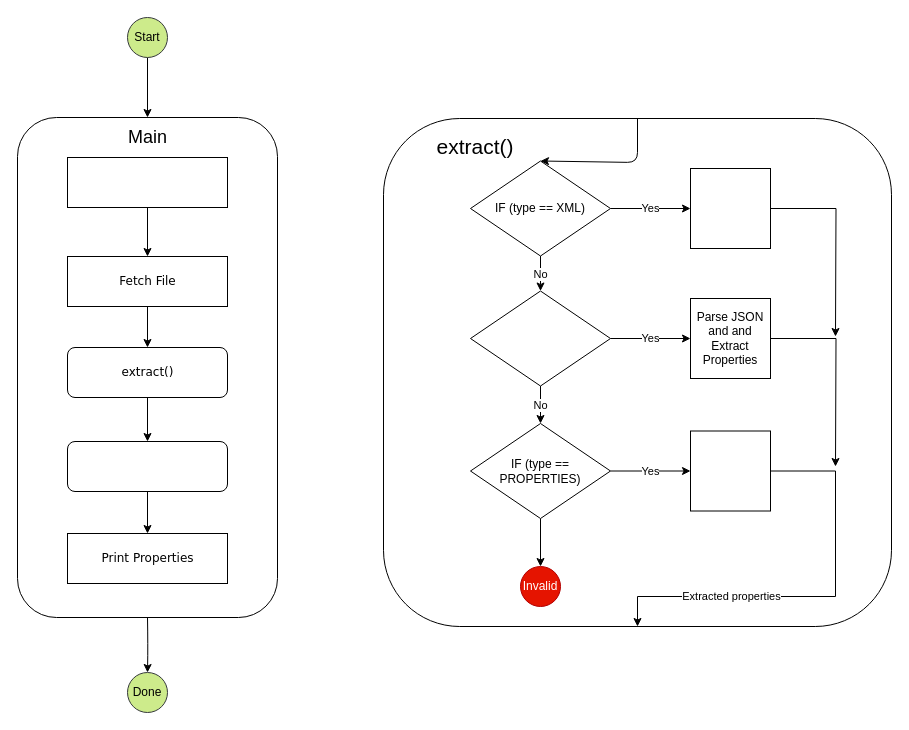
Image size: 909x730. Some labels were removed from this diagram. Each missing label, with the centre of its shape:
"IF (type == JSON)" belongs at point (540, 338).
"Parse PROPERTIES and and Extract Properties" belongs at point (730, 470).
"Parse XML and Extract Properties" belongs at point (730, 208).
"Read Input Arguments" belongs at point (147, 182).
"replace()" belongs at point (147, 466).
